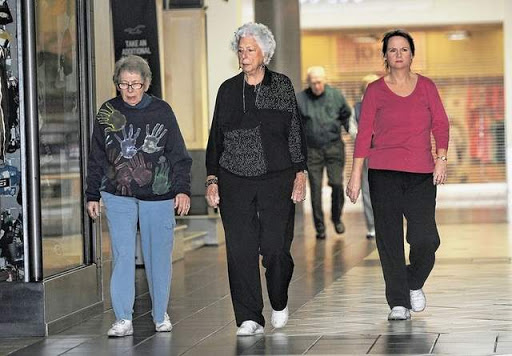Person: (201, 15, 309, 327), (85, 58, 183, 342), (352, 34, 448, 319)
